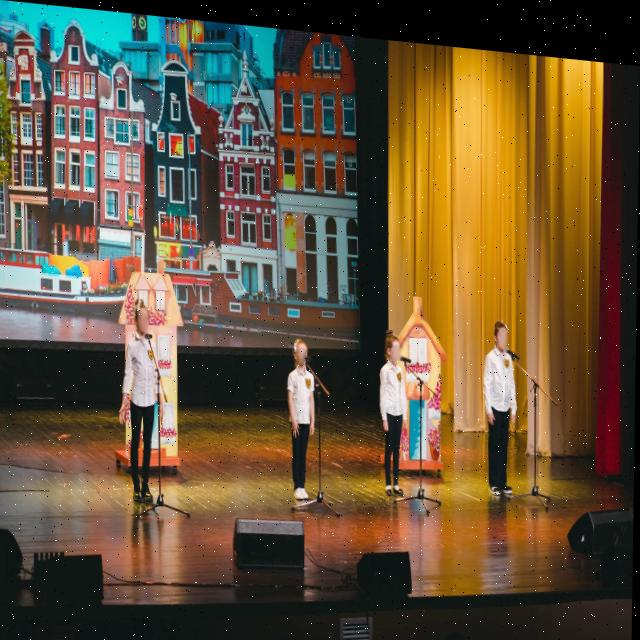Person: (105, 288, 179, 535), (470, 304, 530, 508), (275, 320, 329, 508), (369, 317, 419, 496)
